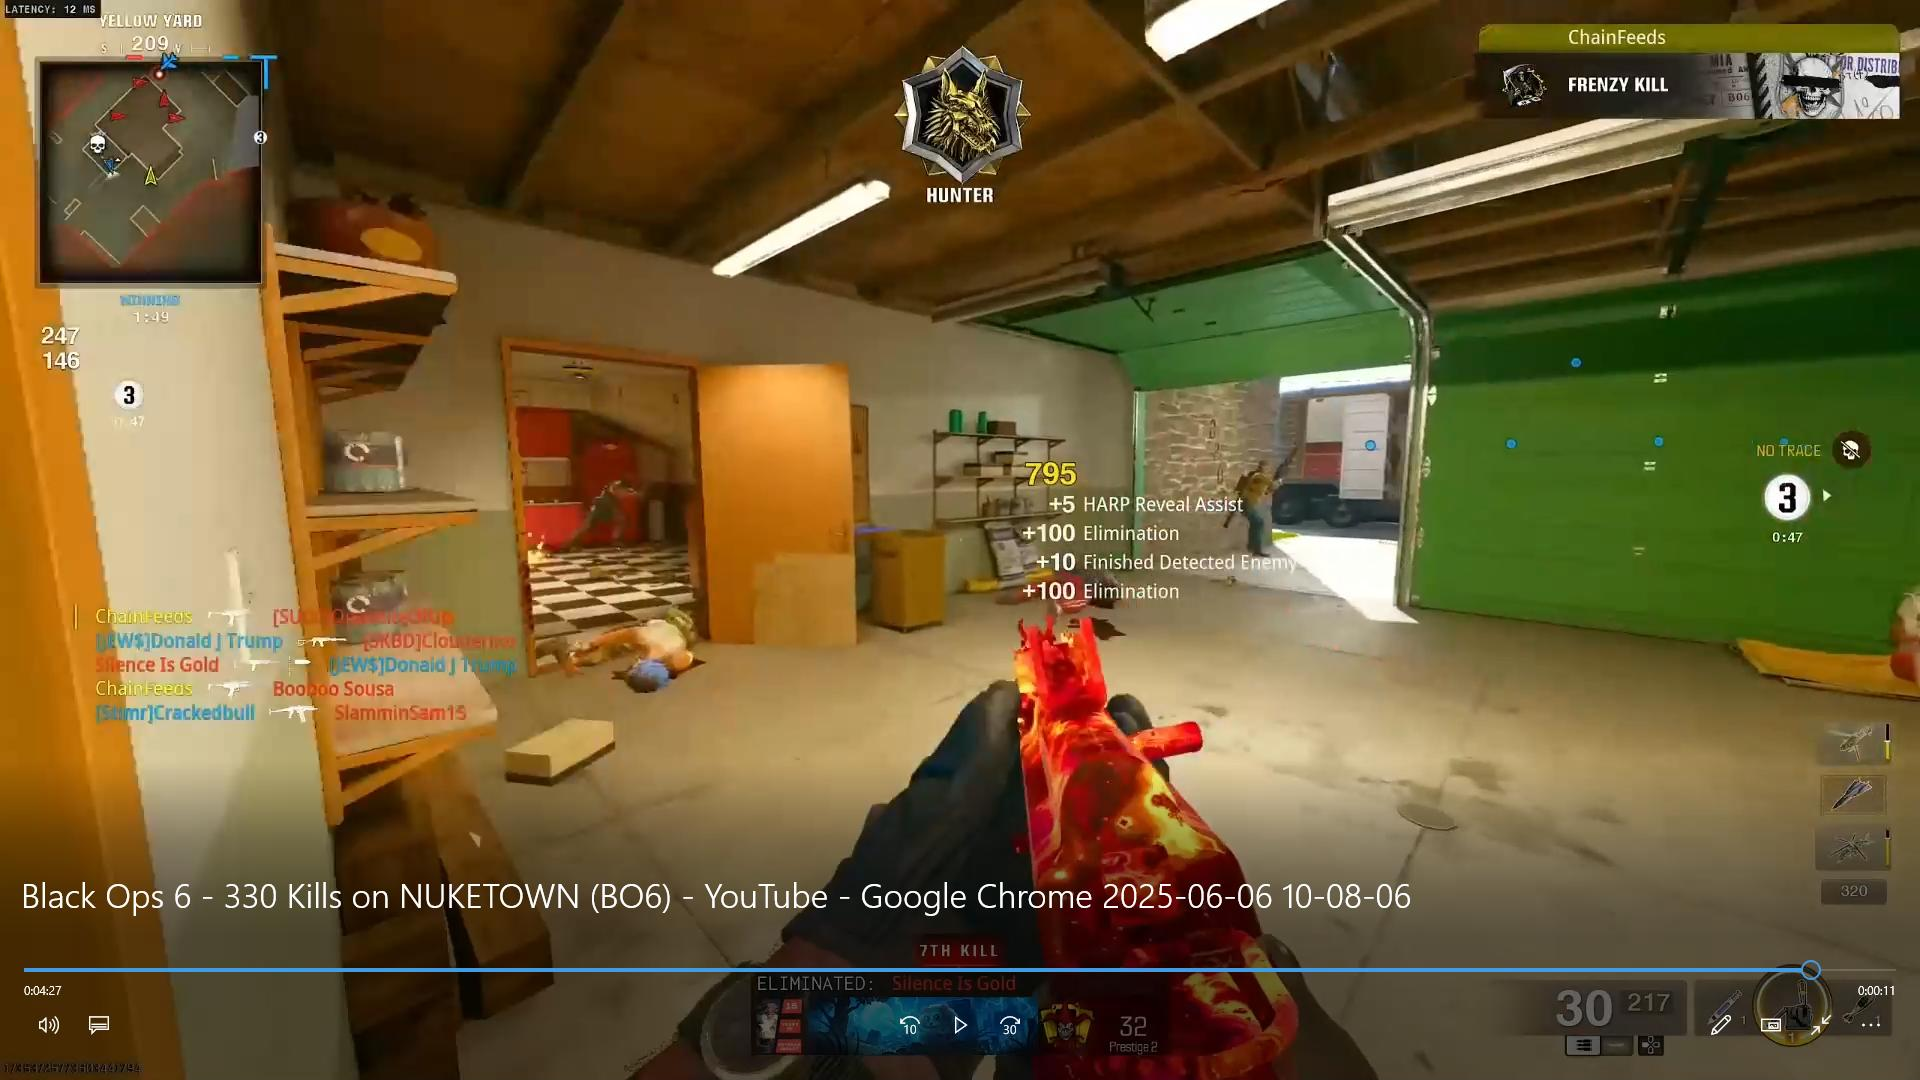Enemy: (1220, 440, 1302, 563)
